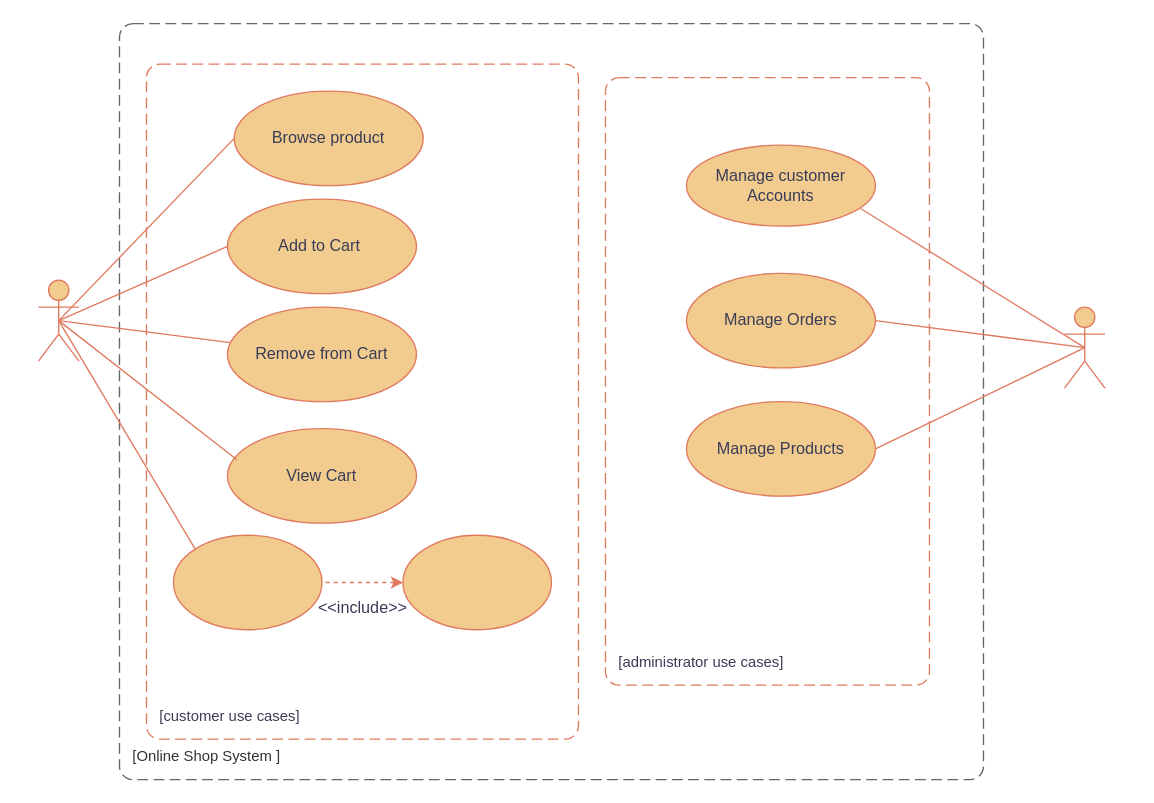
The diagram is 1154 pixels wide and 803 high, and some of its shapes have lost their labels. The shapes that lost their labels are listed below. From the top down, each one's centre as x and y in pixels, then its label:
[58,320]: Customer
[1084,347]: administrator
[247,582]: Procede to Checkout
[476,582]: Make payment
